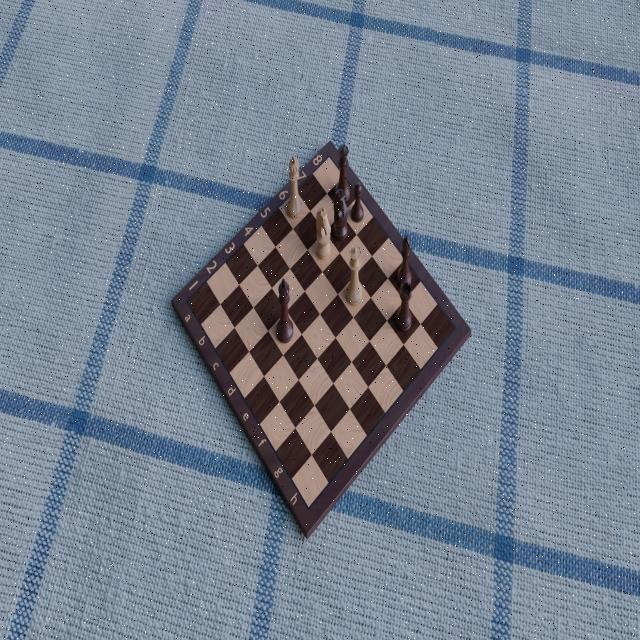black-bishop: (397, 232, 415, 292)
black-king: (274, 277, 293, 345)
black-knight: (332, 188, 350, 242)
black-pawn: (350, 179, 366, 224)
black-queen: (334, 144, 353, 214)
black-rook: (395, 276, 413, 332)
white-king: (284, 152, 303, 221)
white-knight: (313, 202, 332, 263)
white-queen: (345, 244, 363, 309)
